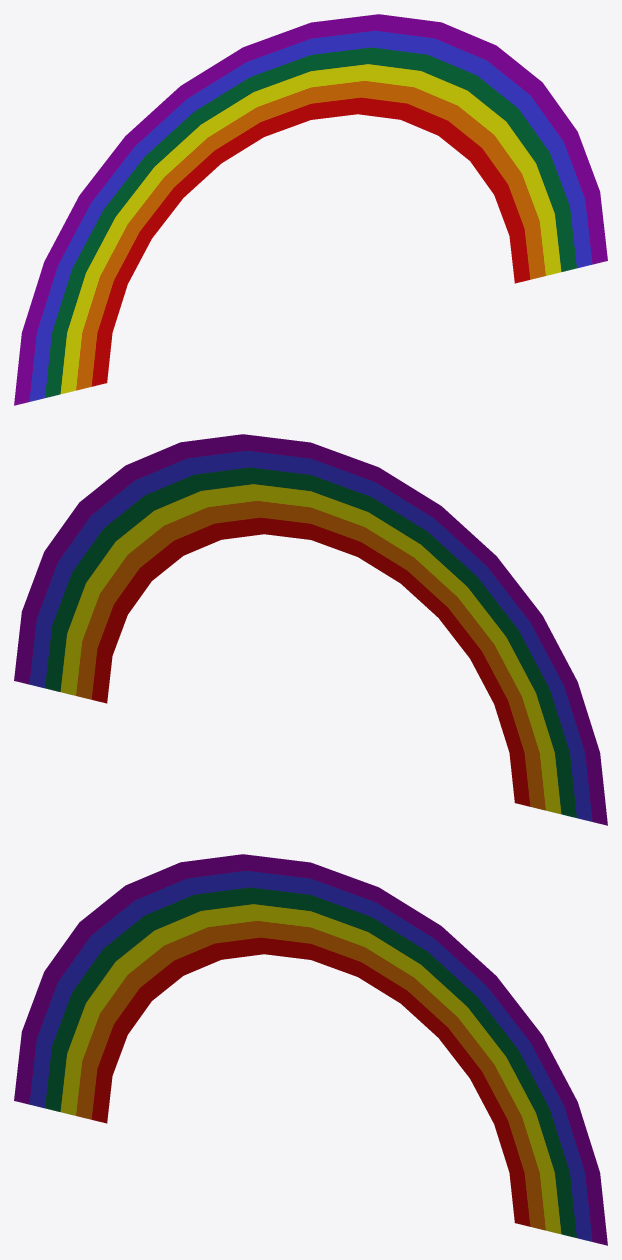
Rendered from env_sogay_01.FBX.
3 renders of one model, top to bottom at view 1: azimuth 30°, elevation 25°; view 2: azimuth 150°, elevation 25°; view 3: azimuth 330°, elevation 25°, orthographic.
Parts seen in each view (by area): view 1: env_sogay_01; view 2: env_sogay_01; view 3: env_sogay_01.
Part boxes in pixels (box(x1,y1,x2,y2)): env_sogay_01: box(14, 14, 607, 405); env_sogay_01: box(14, 434, 607, 825); env_sogay_01: box(14, 854, 607, 1245).
Size of the model in its own units: 41.29 by 20.64 by 3.58e-06.
